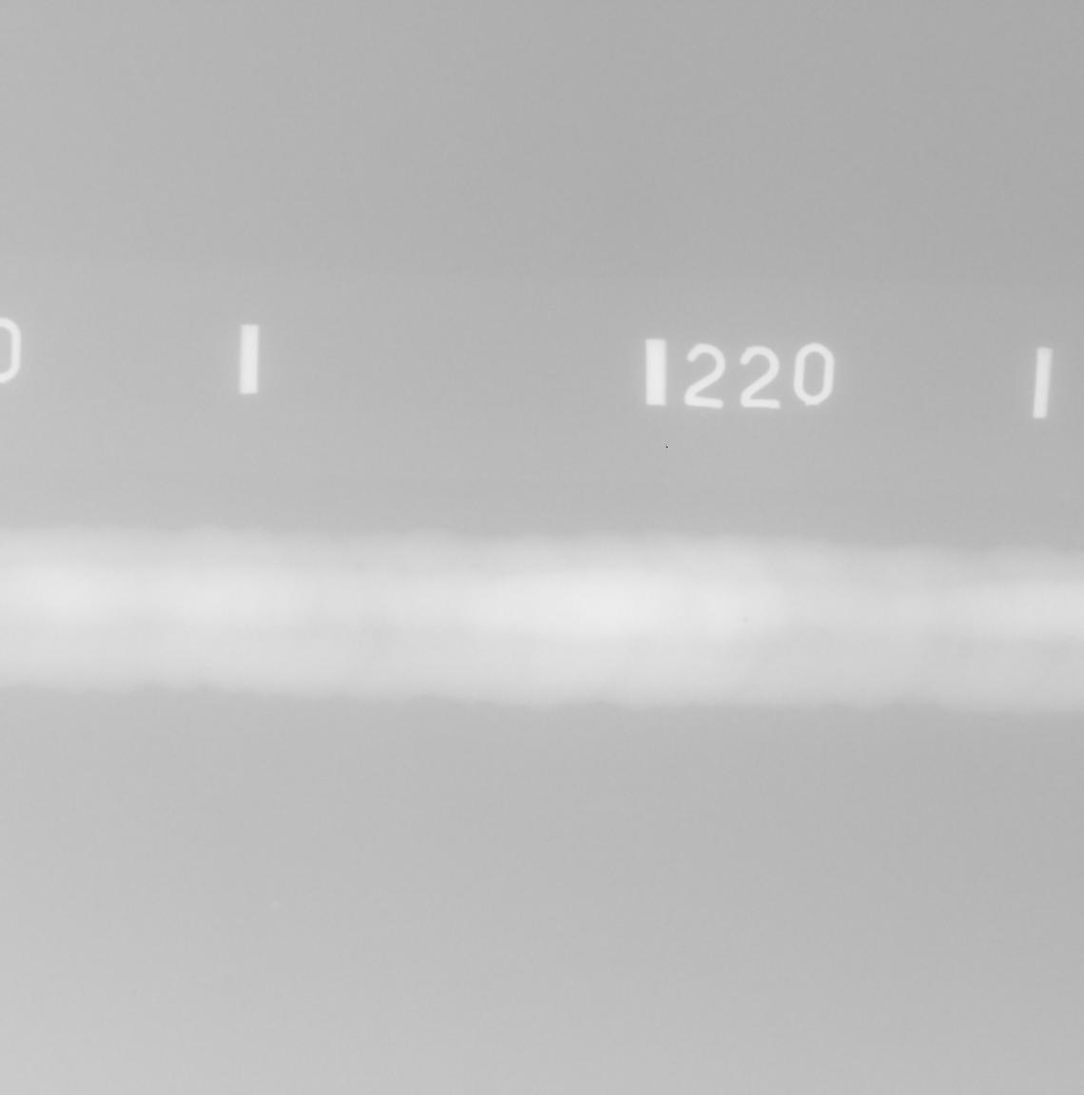Pore/Porosity: (742, 615, 748, 622), (700, 626, 706, 633)
